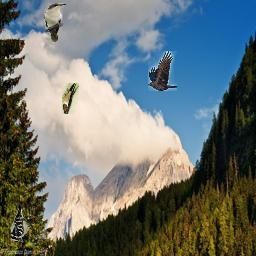Crow: (148, 51, 177, 91)
Cuckoo: (44, 3, 66, 43)
Swallow: (62, 83, 79, 114)
Woodpecker: (10, 203, 34, 243)
